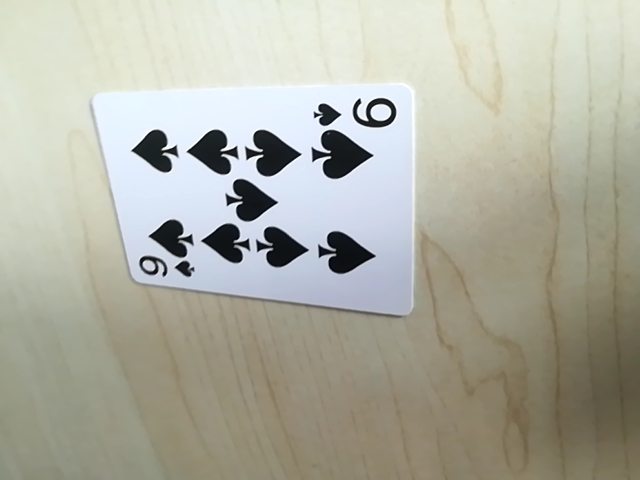ht 9: (313, 91, 404, 131), (130, 253, 196, 285)
